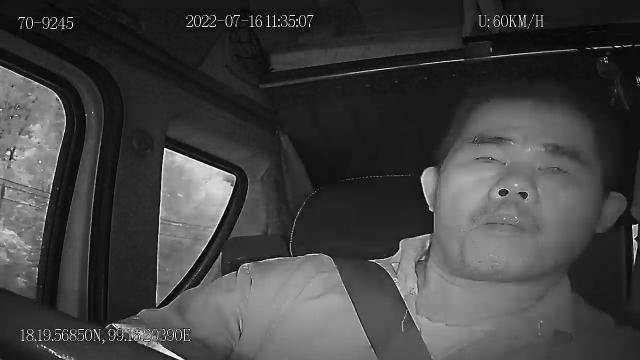SafeDriving: (530, 151, 578, 187), (462, 142, 512, 174)
Seatbelt: (328, 252, 434, 360)
